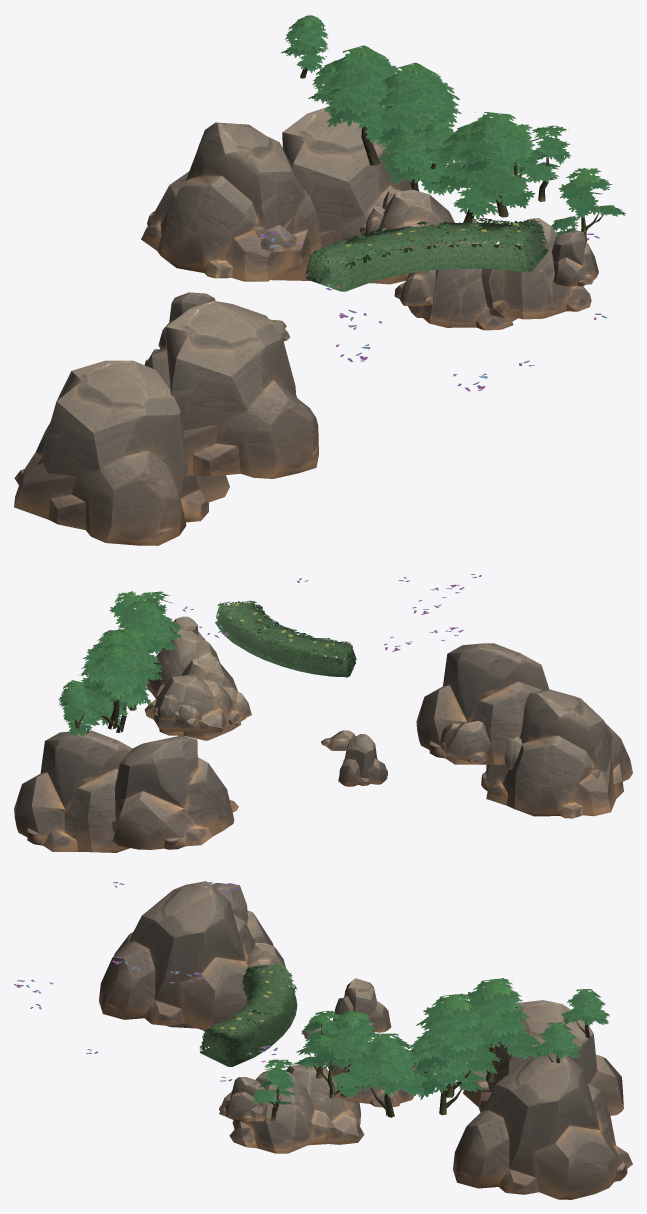
File: pref_sm_4v4pointbake_WSJ_CSD_R02_lv2.fbx
3 views of the same model, one above another, from view 1: azimuth 30°, elevation 25°; view 2: azimuth 150°, elevation 25°; view 3: azimuth 270°, elevation 25° (orthographic). The views are drawn at different scales.
Parts seen in each view (by area): view 1: sm_4v4pointbake_WSJ_CSD_R02_b_lv2, sm_4v4pointbake_WSJ_CSD_R02_c_lv2; view 2: sm_4v4pointbake_WSJ_CSD_R02_b_lv2, sm_4v4pointbake_WSJ_CSD_R02_c_lv2, sm_4v4pointbake_WSJ_CSD_R02_a_lv2; view 3: sm_4v4pointbake_WSJ_CSD_R02_b_lv2, sm_4v4pointbake_WSJ_CSD_R02_c_lv2, sm_4v4pointbake_WSJ_CSD_R02_a_lv2.
Part boxes in pixels (x1,y1,x2,y2): sm_4v4pointbake_WSJ_CSD_R02_b_lv2: (14,107,598,545); sm_4v4pointbake_WSJ_CSD_R02_c_lv2: (281,14,626,291); sm_4v4pointbake_WSJ_CSD_R02_b_lv2: (14,616,632,852); sm_4v4pointbake_WSJ_CSD_R02_c_lv2: (58,591,356,737); sm_4v4pointbake_WSJ_CSD_R02_a_lv2: (182,574,481,651); sm_4v4pointbake_WSJ_CSD_R02_b_lv2: (99,881,632,1199); sm_4v4pointbake_WSJ_CSD_R02_c_lv2: (199,961,609,1121); sm_4v4pointbake_WSJ_CSD_R02_a_lv2: (14,882,277,1081).
Bounding box in the file's own units: 28.57 × 9.5 × 29.17.
